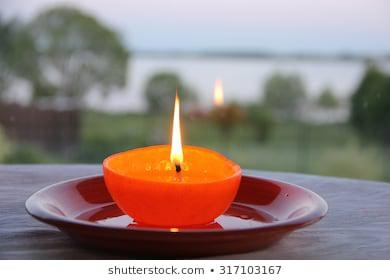fire: (167, 89, 185, 164), (211, 77, 224, 105)
